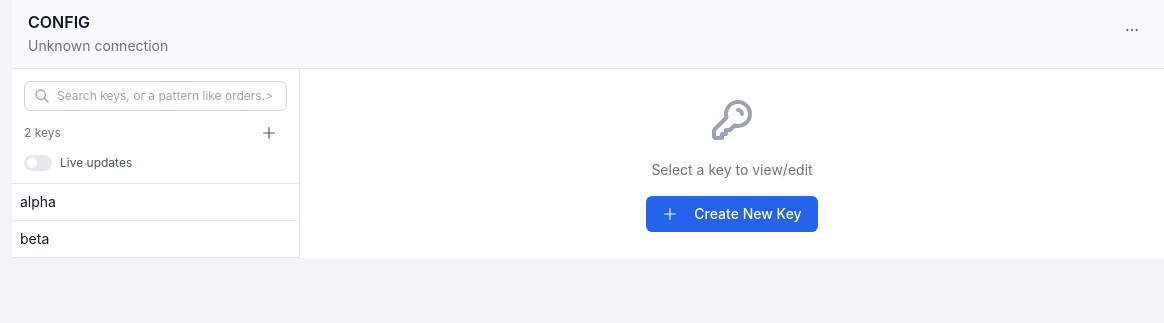
Test: KVStorePage › watches the bucket only after Live is turned on
The width and height of the screenshot is (1164, 323).
Click the switch named "live updates" at [38, 163], box [24,155,52,171]
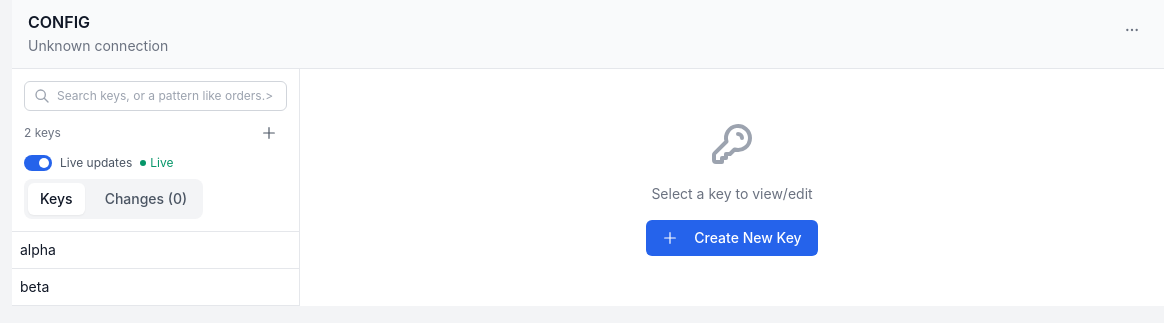
Check: the text "Live" is shown, box [150,155,174,171]
